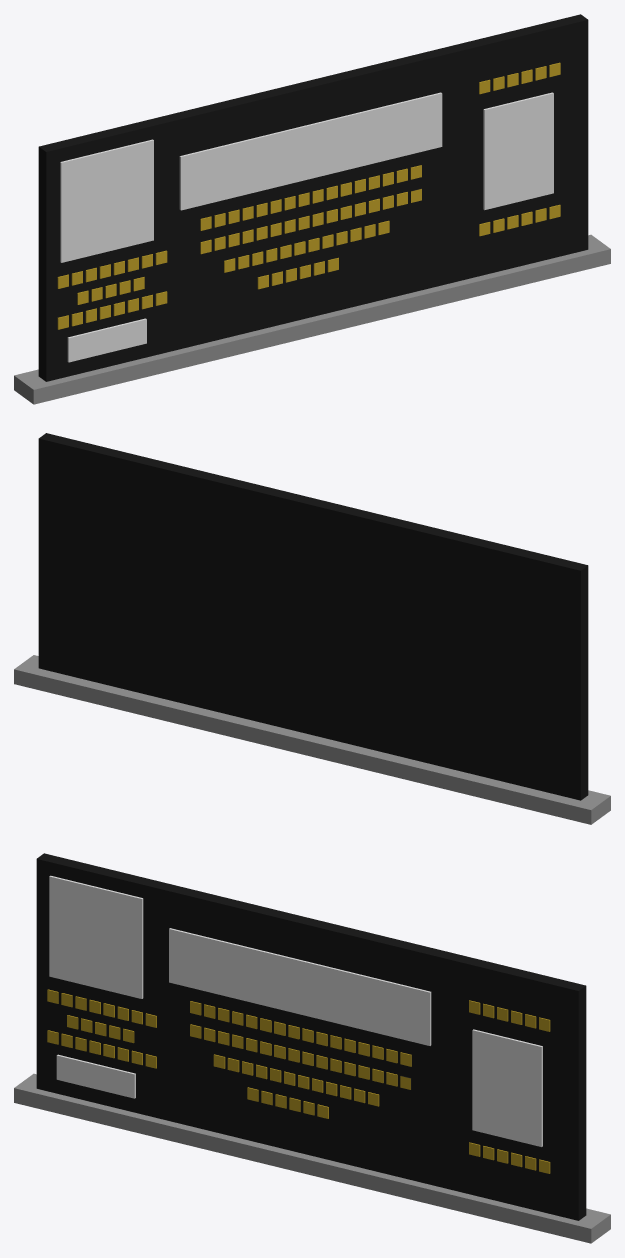
File: Cartel de la historia del museo.fbx
3 views of the same model, one above another, from view 1: azimuth 30°, elevation 25°; view 2: azimuth 150°, elevation 25°; view 3: azimuth 330°, elevation 25° (orthographic).
Visible parts, largest first — view 1: Cartel de la historia del museo; view 2: Cartel de la historia del museo; view 3: Cartel de la historia del museo.
Part boxes in pixels (x1=…): Cartel de la historia del museo: x1=14, y1=14, x2=610, y2=404; Cartel de la historia del museo: x1=14, y1=433, x2=610, y2=824; Cartel de la historia del museo: x1=14, y1=853, x2=610, y2=1243.
Size of the model in its own units: 1183 by 479 by 70.17.
